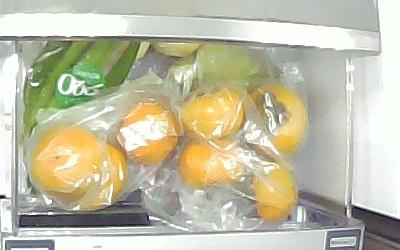persimmon_vinyl: (29, 127, 104, 198), (248, 84, 308, 153), (120, 100, 179, 167), (181, 84, 245, 141), (75, 143, 128, 208), (178, 141, 247, 184), (254, 161, 299, 222)
